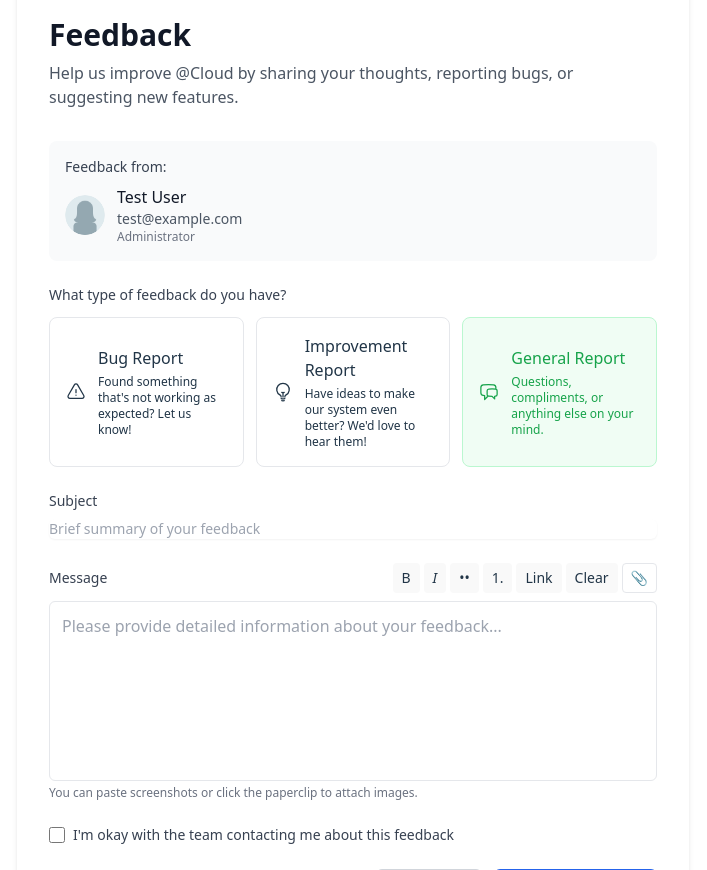
Test: Feedback page › clears form when Clear Form button is clicked
The width and height of the screenshot is (707, 870).
In the field labelled "Subject": (353, 529) [49,519,657,539], type "Test Subject"
(page scrolled)
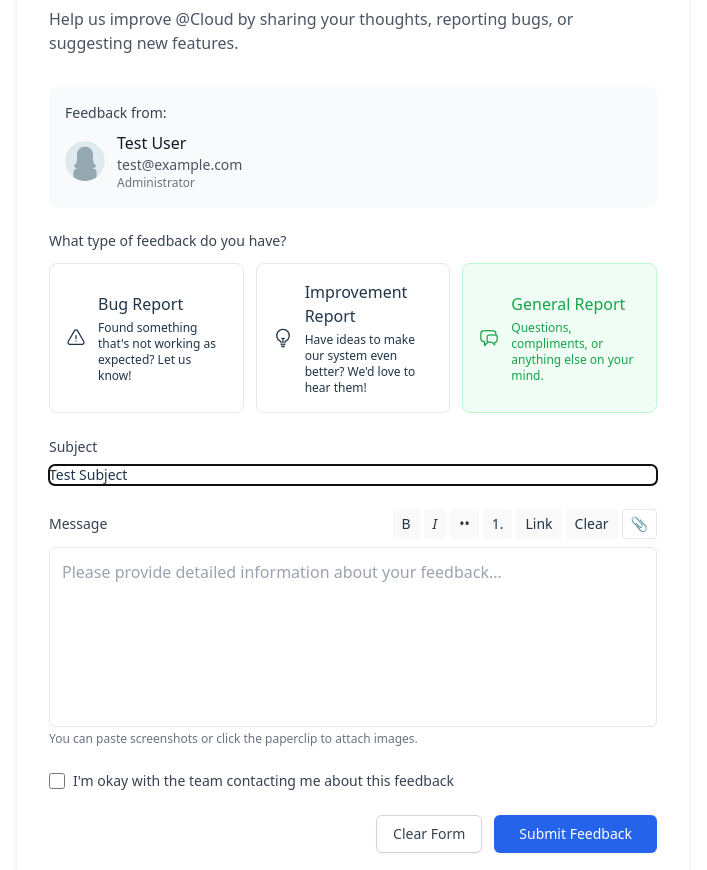
Click the button "Clear Form": (429, 834) [376,815,482,853]
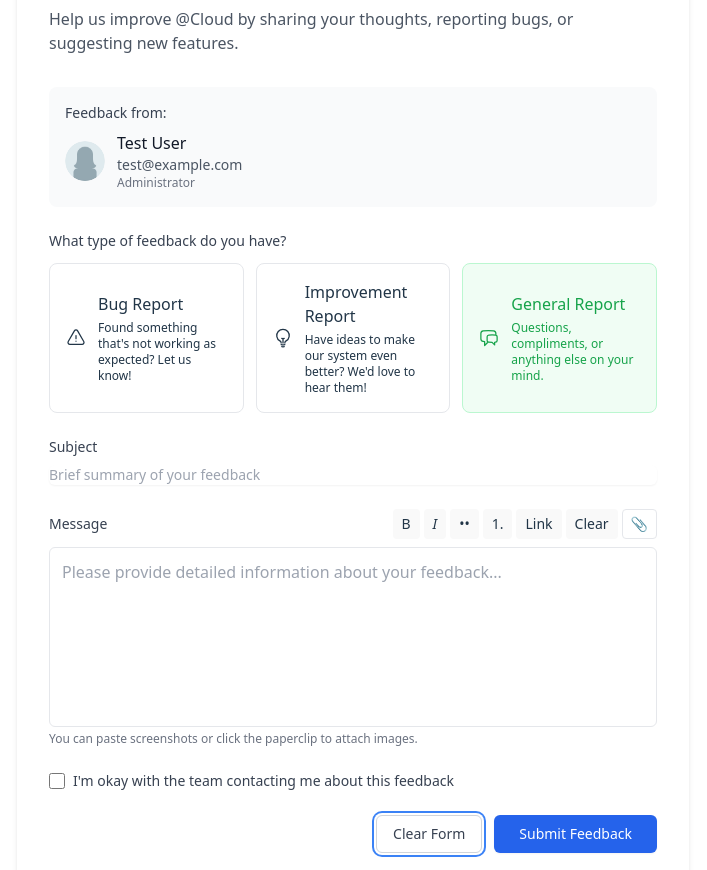
expect the field labelled "Subject" is empty: met, box [49,465,657,485]
